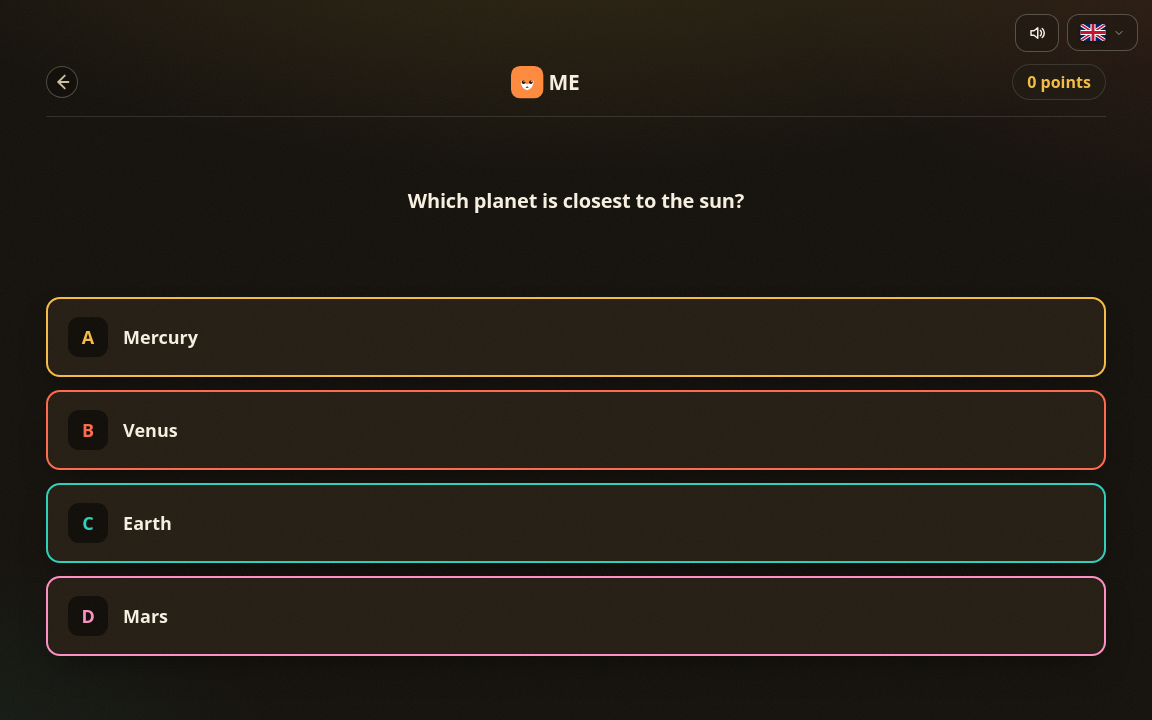
Test: PlayerScreen trivia answering › locks the screen the moment an option is tapped
What coordinates should you click on to do the following:
click the button "A Mercury"
I would click on:
 (88, 337)
Its box is [46, 297, 1106, 377].
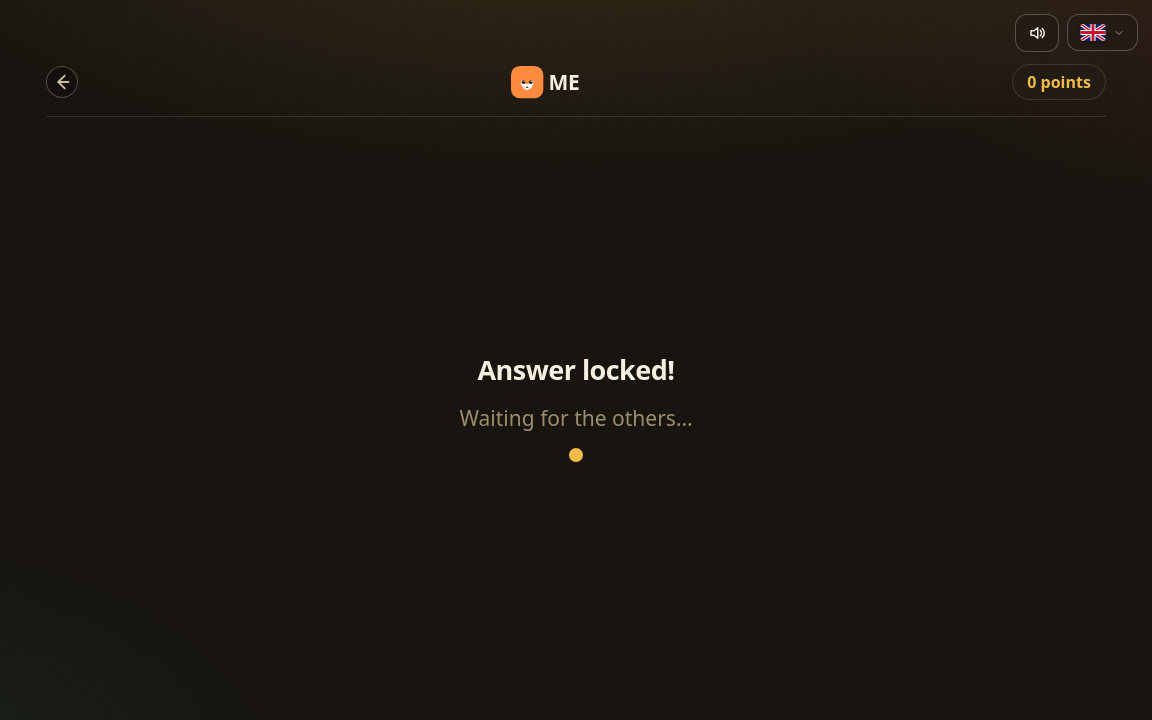
Check: the button "Venus" is gone
